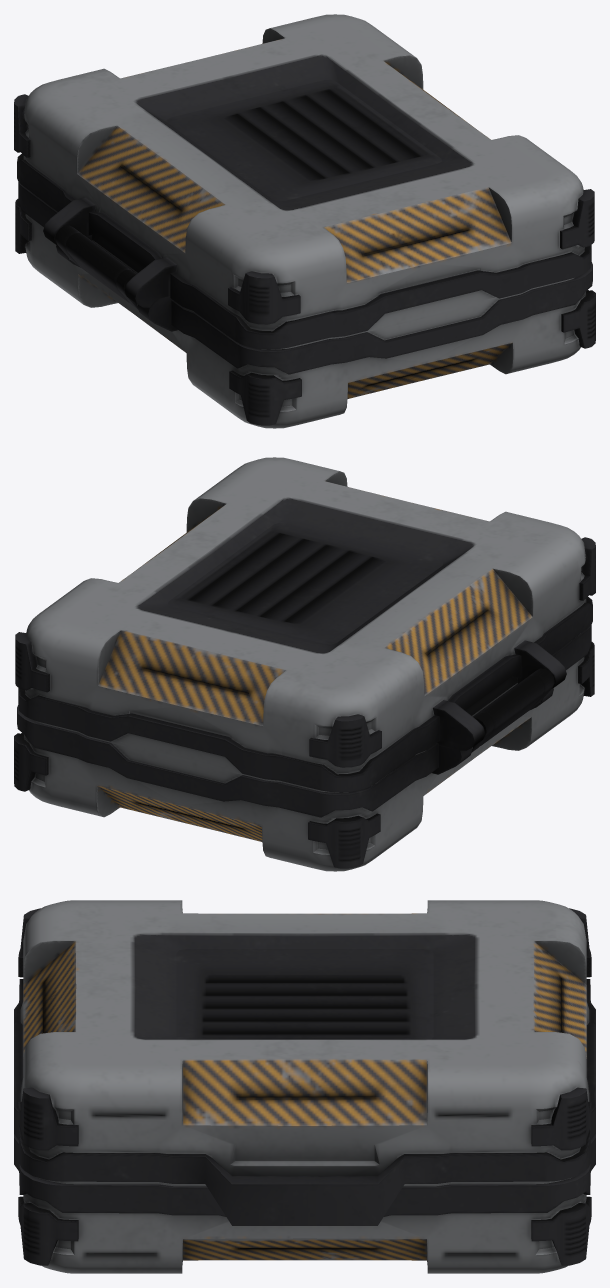
Rendered from Laptop Closed.fbx.
3 views of the same model, one above another, from view 1: azimuth 30°, elevation 25°; view 2: azimuth 150°, elevation 25°; view 3: azimuth 270°, elevation 25° (orthographic). The views are drawn at different scales.
Visible parts, largest first — view 1: Laptop_Closed; view 2: Laptop_Closed; view 3: Laptop_Closed.
Boxes of the visible parts, x1,y1,x2,y2 form: Laptop_Closed: [14, 14, 595, 428]; Laptop_Closed: [14, 457, 595, 871]; Laptop_Closed: [14, 900, 595, 1273].
Bounding box in the file's own units: 39.59 × 15.94 × 41.99.
1 material, 1 textured.
